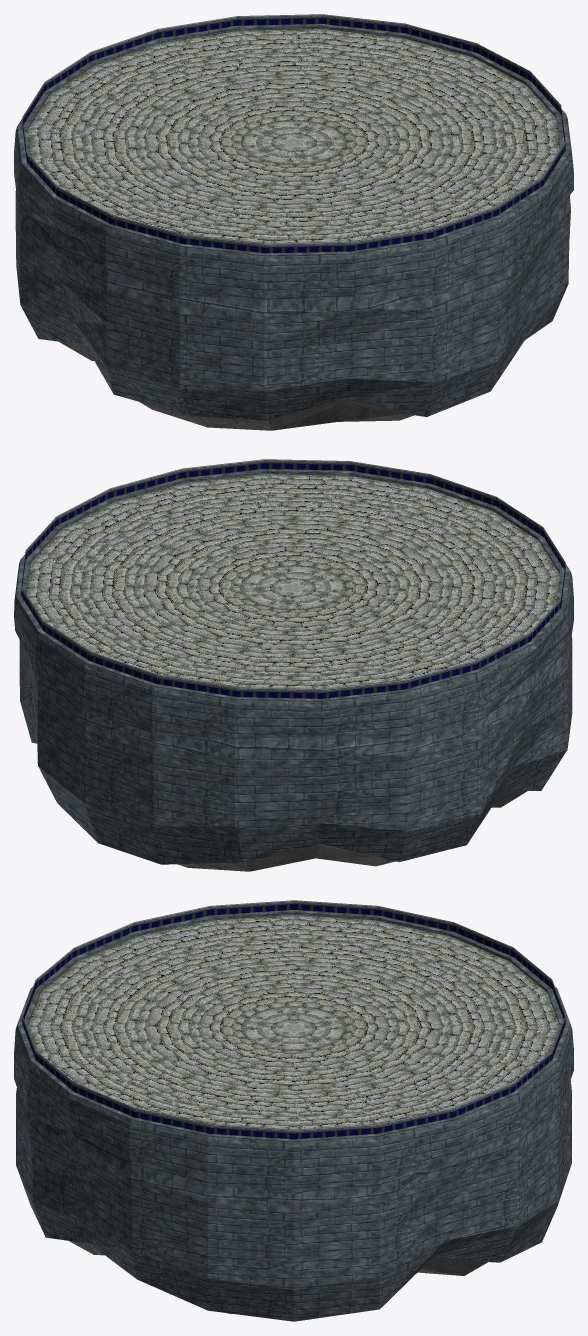
Rendered from Main.obj.
The picture shows the model from 3 angles, top to bottom: view 1: azimuth 30°, elevation 25°; view 2: azimuth 150°, elevation 25°; view 3: azimuth 270°, elevation 25°; orthographic projection.
Visible parts, largest first — view 1: main3 main2 main1, main3, main3 main2 main1 main0, main3 main2; view 2: main3 main2 main1, main3, main3 main2 main1 main0, main3 main2; view 3: main3 main2 main1, main3, main3 main2 main1 main0, main3 main2.
Boxes of the visible parts, x1,y1,x2,y2 form: main3 main2 main1: (14,24,573,420); main3: (28,29,559,243); main3 main2 main1 main0: (22,14,565,253); main3 main2: (42,339,423,430); main3 main2 main1: (14,469,573,864); main3: (27,474,559,689); main3 main2 main1 main0: (21,459,565,698); main3 main2: (178,789,533,871); main3 main2 main1: (14,910,573,1321); main3: (28,915,559,1129); main3 main2 main1 main0: (22,900,565,1139); main3 main2: (69,1241,496,1313).
Bounding box in the file's own units: 5266 × 2244 × 5281.
4 materials, 4 textured.
